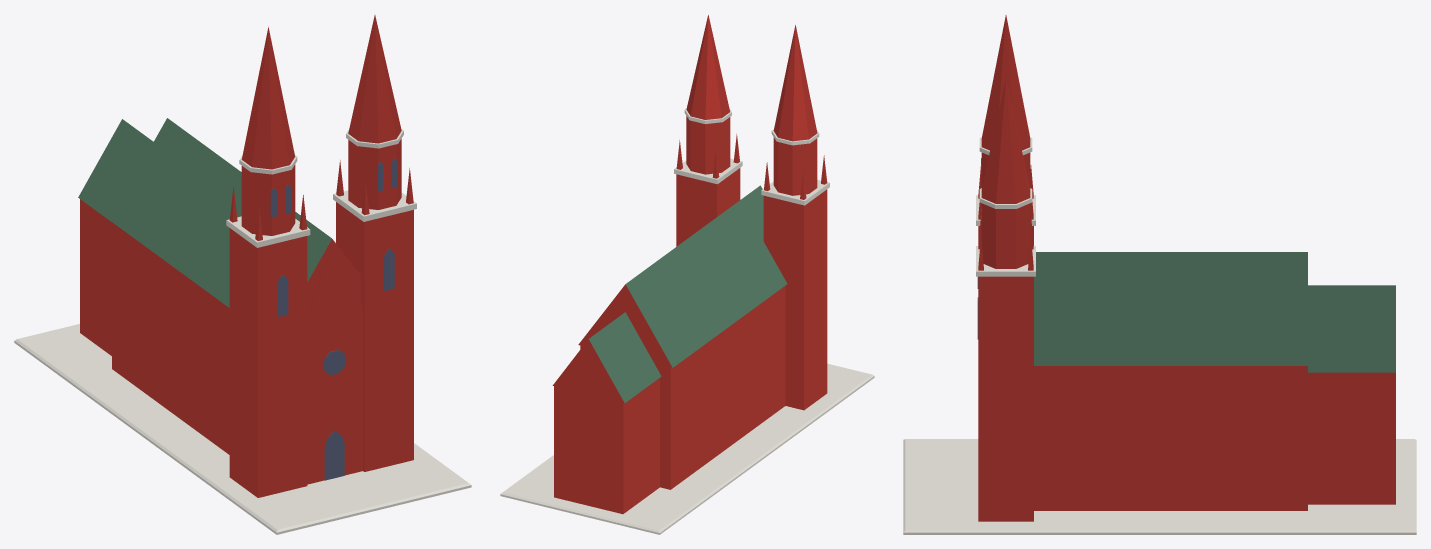
Rendered from basel.glb.
The picture shows the model from 3 angles, left to right: view 1: azimuth 30°, elevation 25°; view 2: azimuth 150°, elevation 25°; view 3: azimuth 270°, elevation 25°; orthographic projection. The views are drawn at different scales.
Visible parts, largest first — view 1: model; view 2: model; view 3: model.
Boxes of the visible parts, bbox=[...] form: model: bbox=[14, 15, 471, 534]; model: bbox=[500, 15, 874, 534]; model: bbox=[903, 15, 1416, 534].
Size of the model in its own units: 30 by 67.6 by 70.
